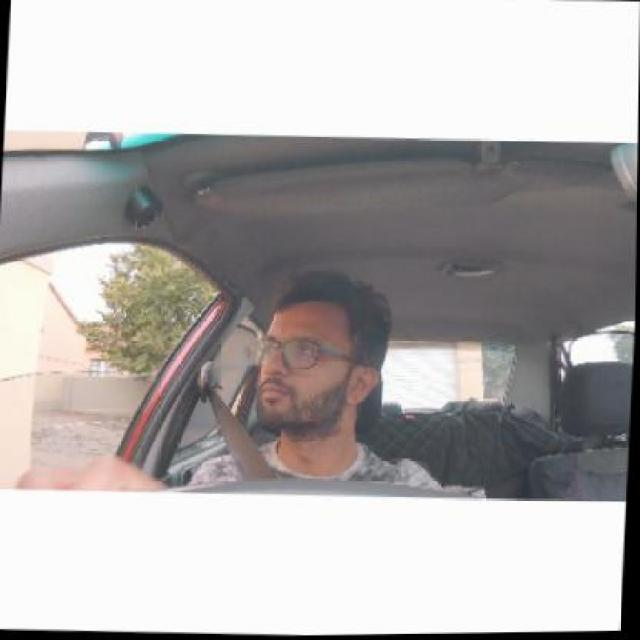LeftRight: (236, 271, 396, 456)
